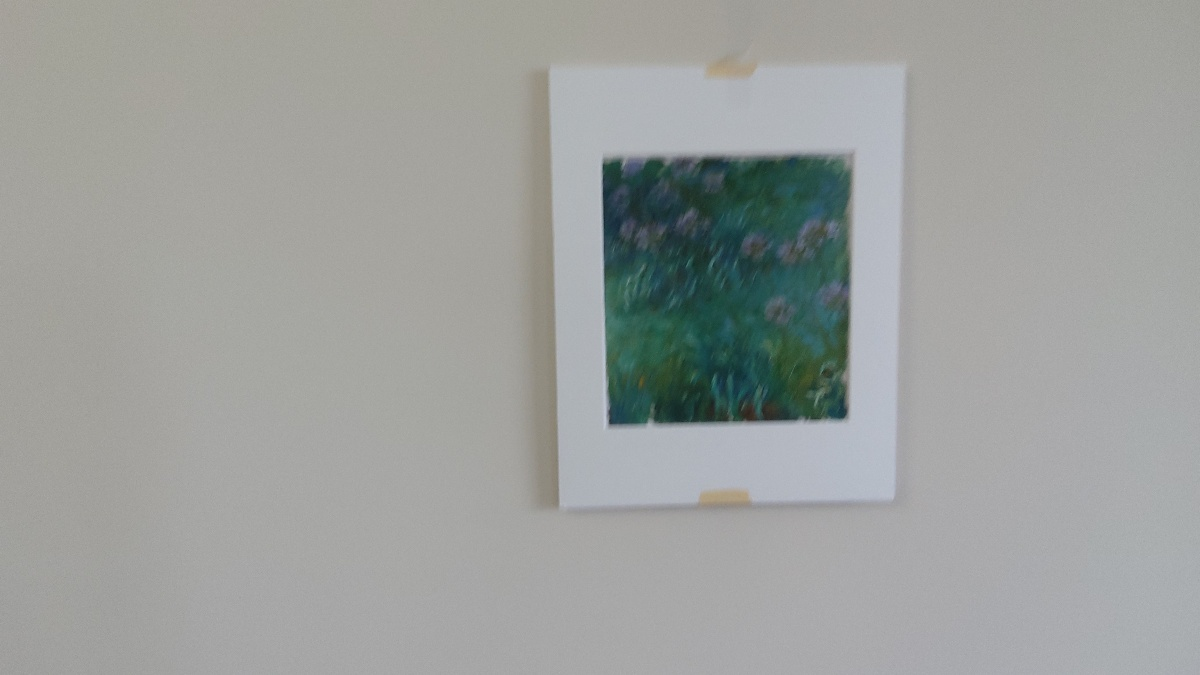painting: (585, 138, 858, 435)
